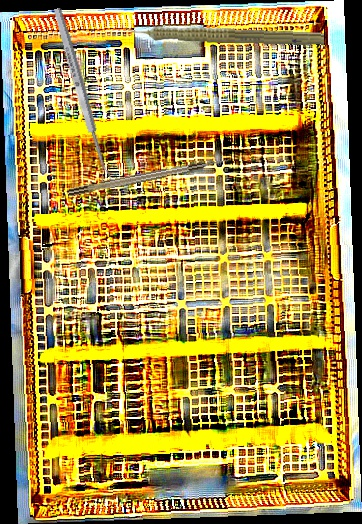Handpiece: (117, 17, 325, 49)
Hook Surgical: (66, 156, 231, 197)
Surgical Spoon: (51, 6, 113, 185)
